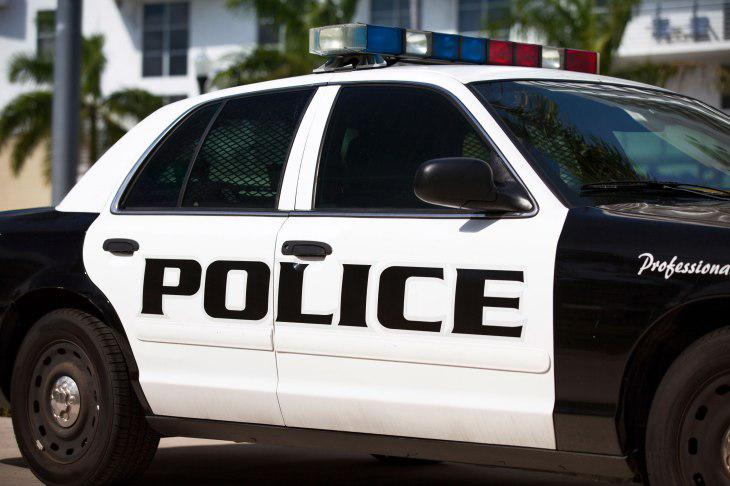car: (7, 19, 730, 482)
